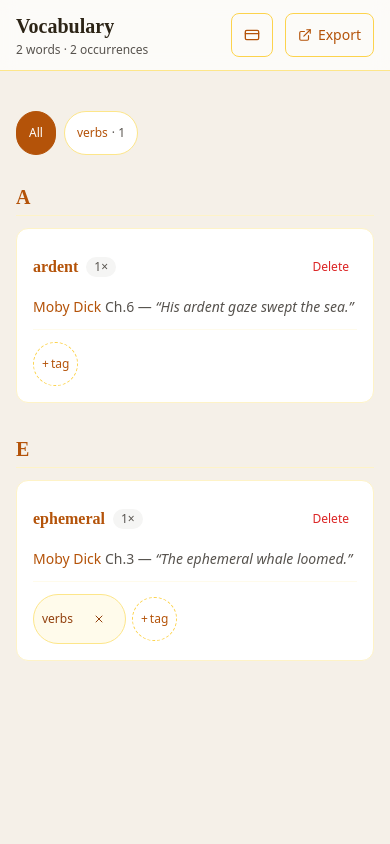
Scenario: clicking a pill filters the word list to words carrying that tag
Expected: the button "ephemeral" is shown, [33,497,105,541]
Click the button with test id "tag-filter-verbs" at (101, 133), box [64,111,138,155]
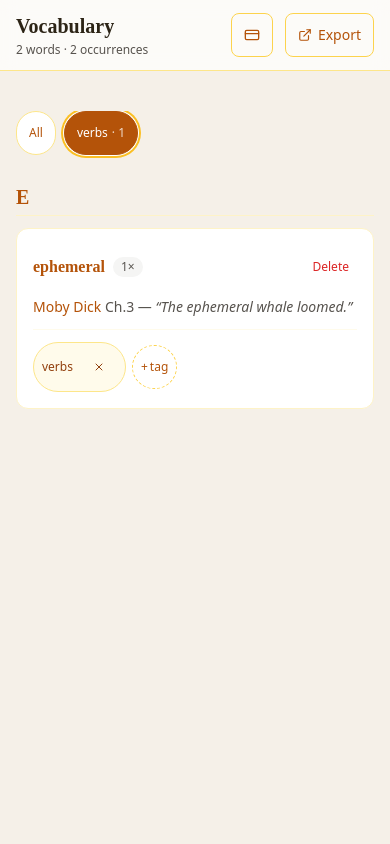
Expected: the button "ephemeral" is shown, [33,245,105,289]
Now the button "ardent" is gone
